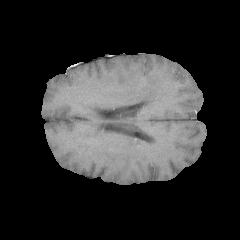glioma: (118, 69, 167, 113)
